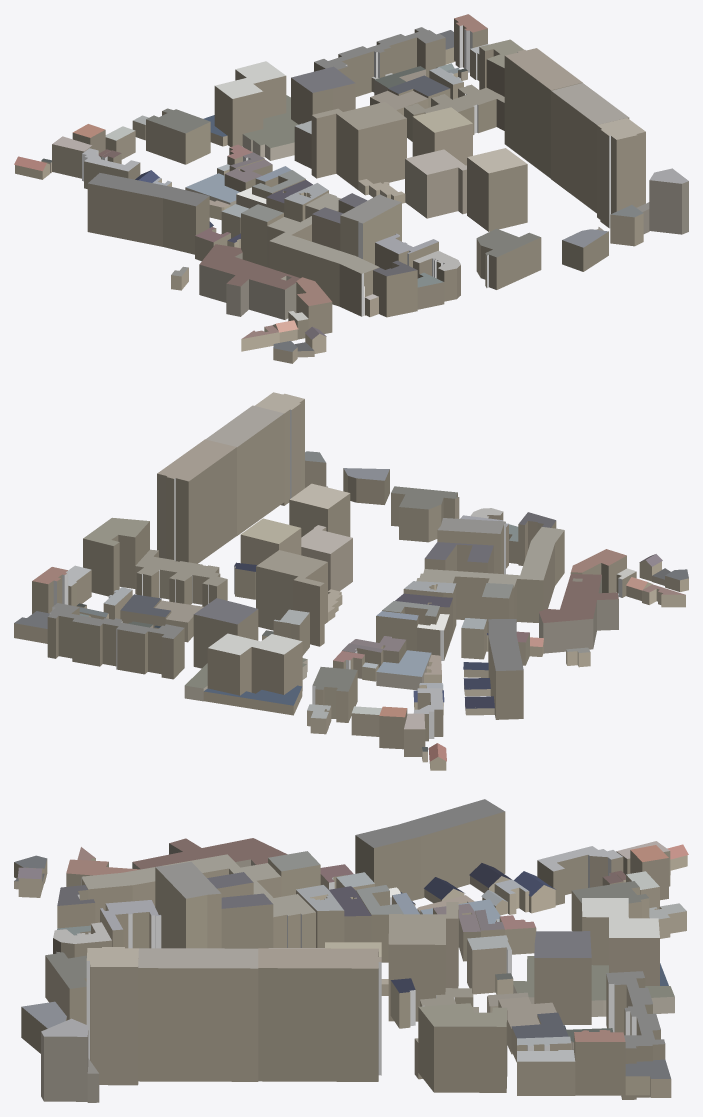
3 renders of one model, top to bottom at view 1: azimuth 30°, elevation 25°; view 2: azimuth 150°, elevation 25°; view 3: azimuth 270°, elevation 25°, orthographic. The views are drawn at different scales.
Visible parts, largest first — view 1: tuile; view 2: tuile; view 3: tuile.
Boxes of the visible parts, <box> form: tuile: <box>14,14,688,363</box>; tuile: <box>14,392,688,770</box>; tuile: <box>14,799,688,1102</box>.
Size of the model in its own units: 254 by 65.83 by 264.
